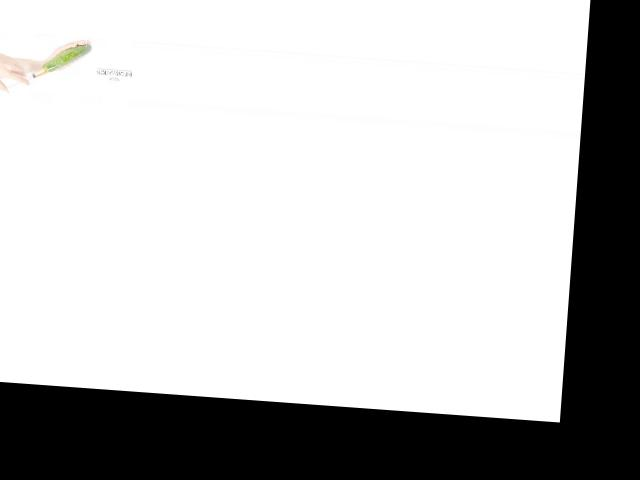cucumber: (42, 41, 91, 75)
